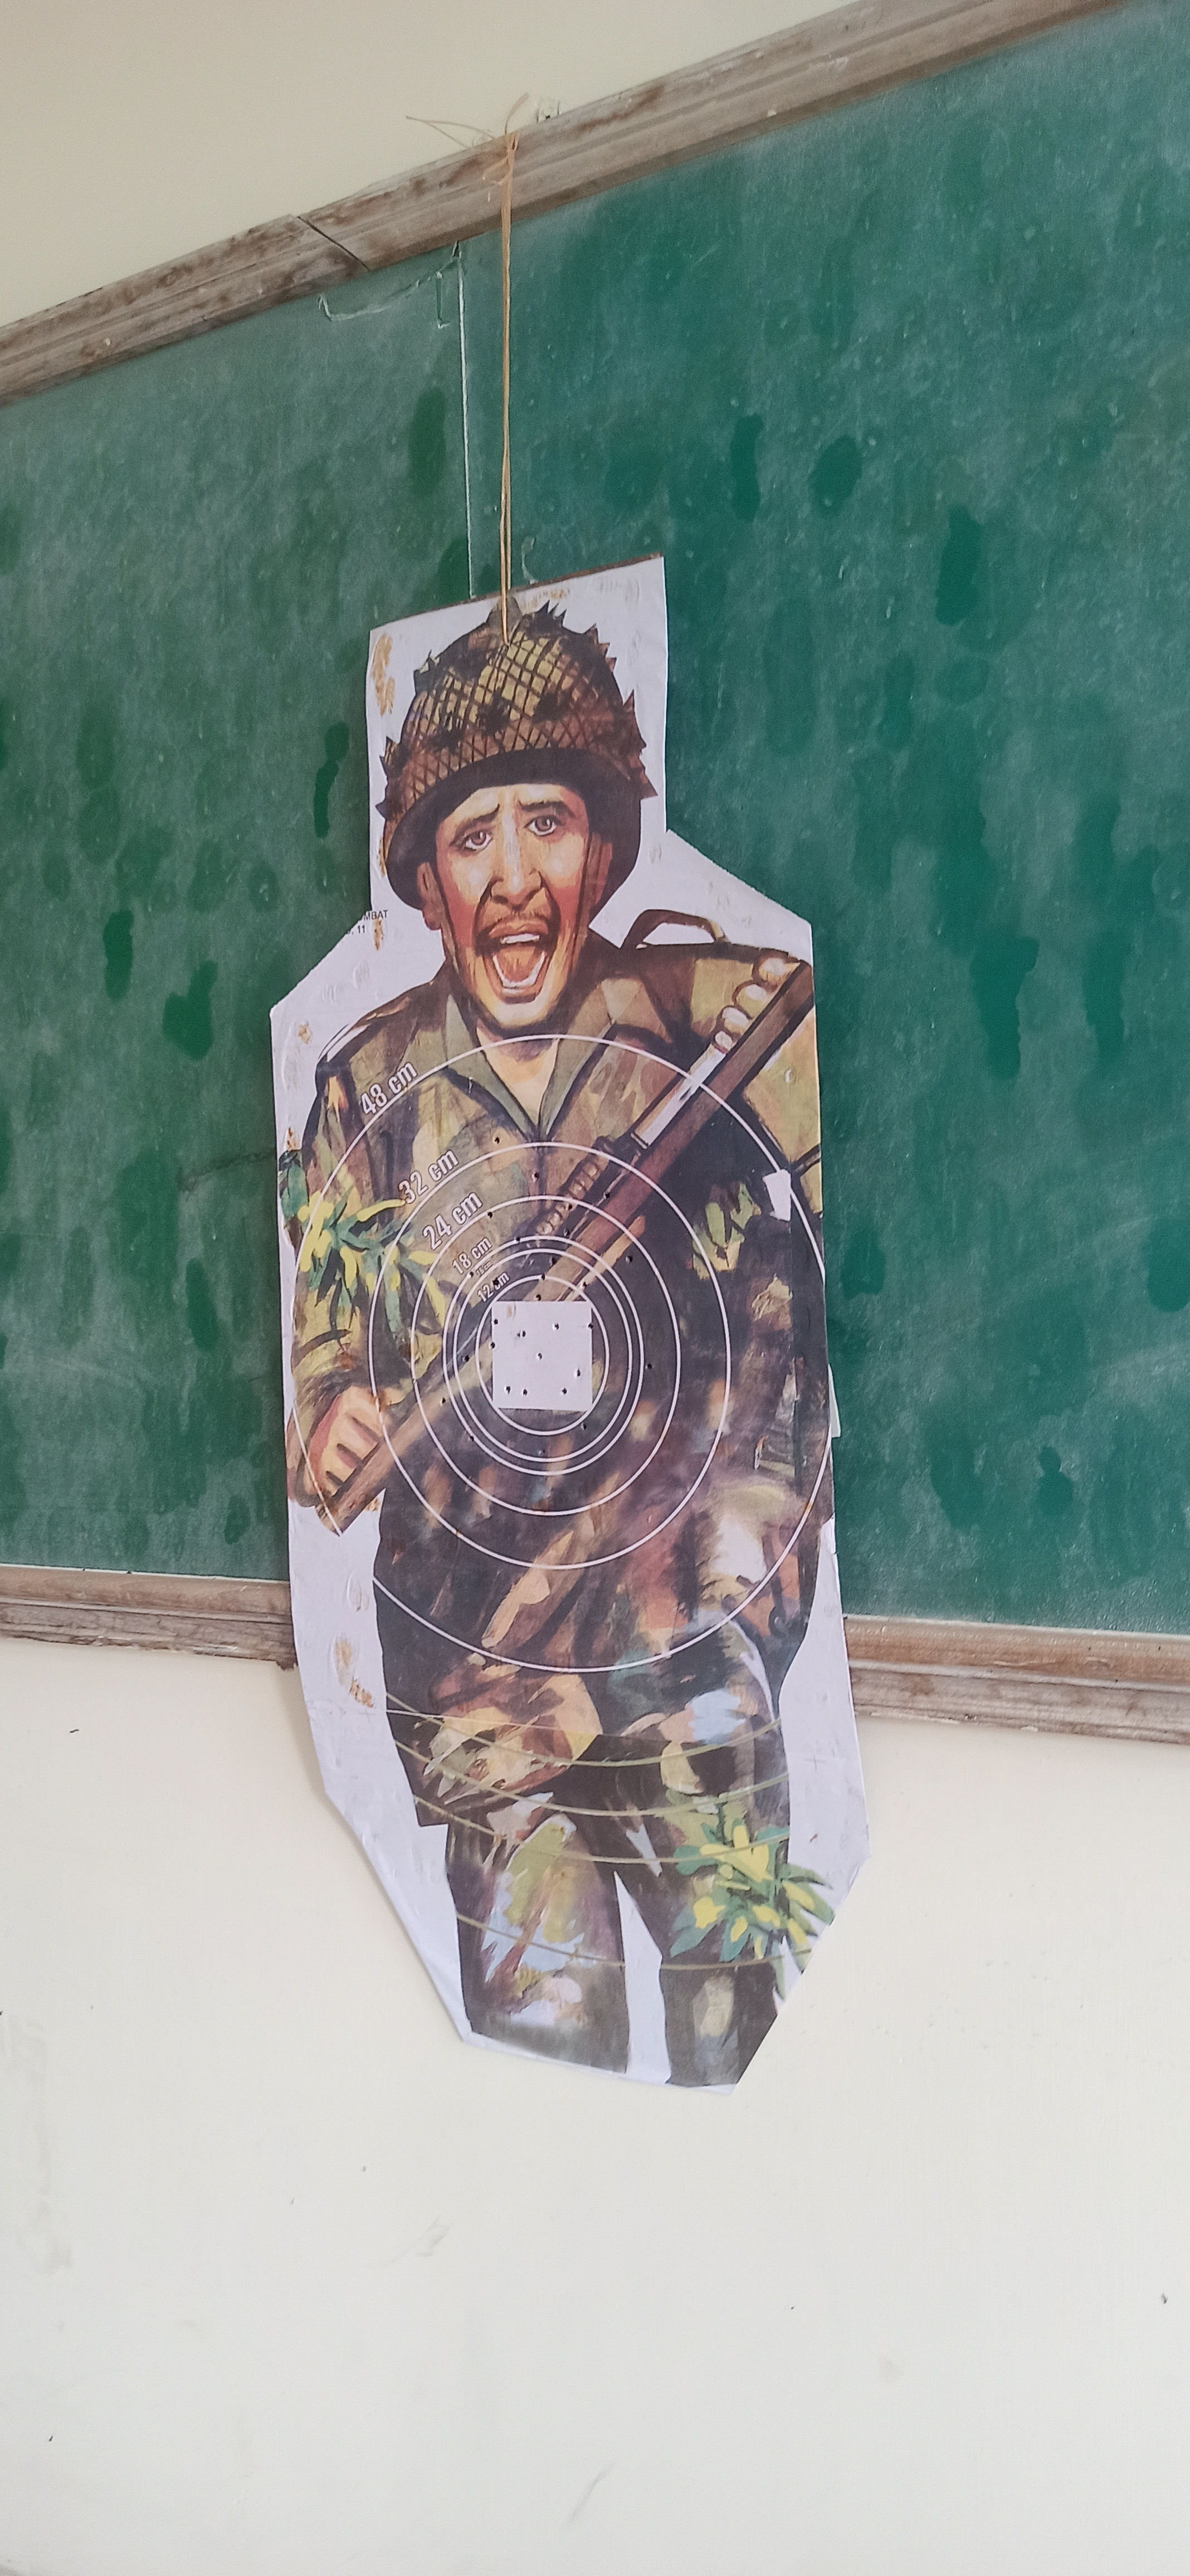bullet hit: (641, 1360, 656, 1375), (602, 1188, 615, 1204), (621, 1252, 636, 1265), (547, 1255, 560, 1268), (493, 1134, 505, 1148), (579, 1419, 590, 1433), (572, 1368, 585, 1380), (490, 1277, 501, 1290), (564, 1201, 575, 1214), (560, 1226, 572, 1239), (511, 1234, 523, 1247), (533, 1168, 542, 1183), (537, 1447, 549, 1459), (536, 1272, 547, 1283), (465, 1434, 478, 1444), (464, 1270, 477, 1280), (559, 1385, 569, 1396), (534, 1352, 546, 1362), (503, 1383, 513, 1395), (491, 1318, 501, 1329), (490, 1339, 498, 1352), (487, 1211, 496, 1221), (439, 1395, 447, 1406), (587, 1322, 598, 1331), (534, 1293, 546, 1301), (521, 1388, 529, 1400), (552, 1322, 562, 1331), (462, 1354, 470, 1364), (582, 1281, 590, 1291), (519, 1331, 528, 1339)
white box: (490, 1299, 595, 1411)
